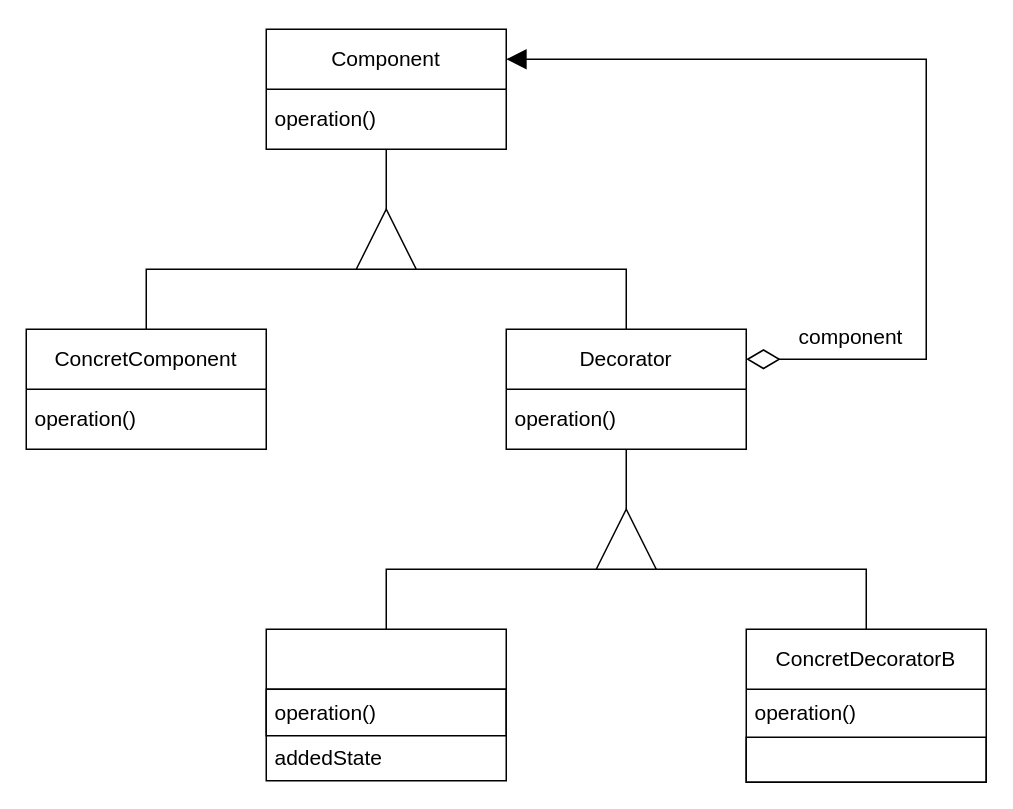
Some shapes in this 1013 by 809 pixel diagram are drawn without their labels. Here are the shapes that lost their labels. From the top down, the box of each, then its label:
(265, 628, 506, 781): ConcretDecoratorA
(745, 736, 986, 782): addedBehavior()
